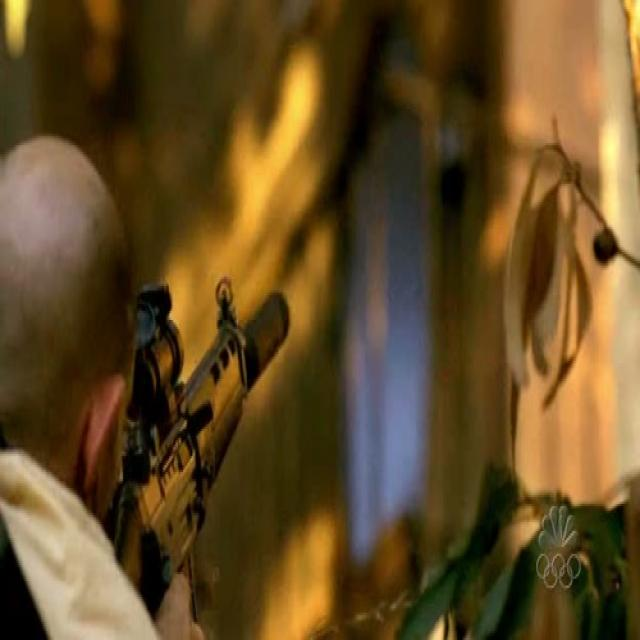rifle: (94, 262, 295, 610)
